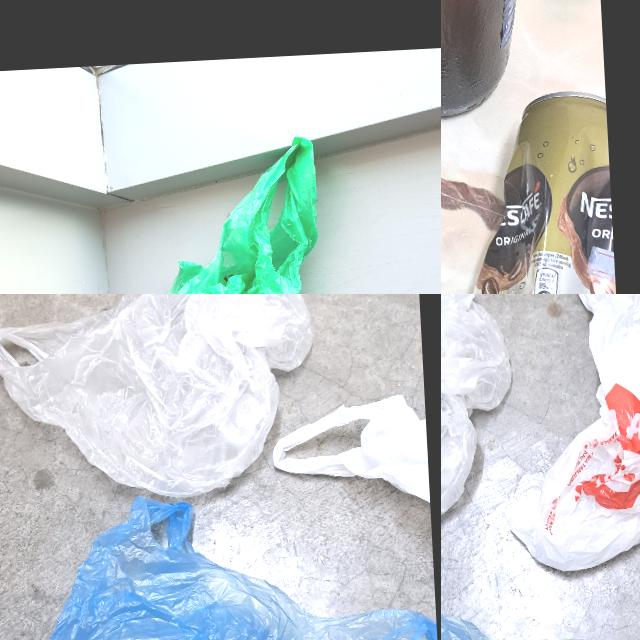garrafa de vidro: (441, 0, 542, 123)
lata: (454, 87, 621, 294)
sacola plástica: (0, 294, 319, 509), (3, 484, 441, 640), (486, 294, 640, 578), (117, 129, 345, 294), (272, 388, 432, 545), (441, 521, 640, 640), (441, 294, 524, 539)
